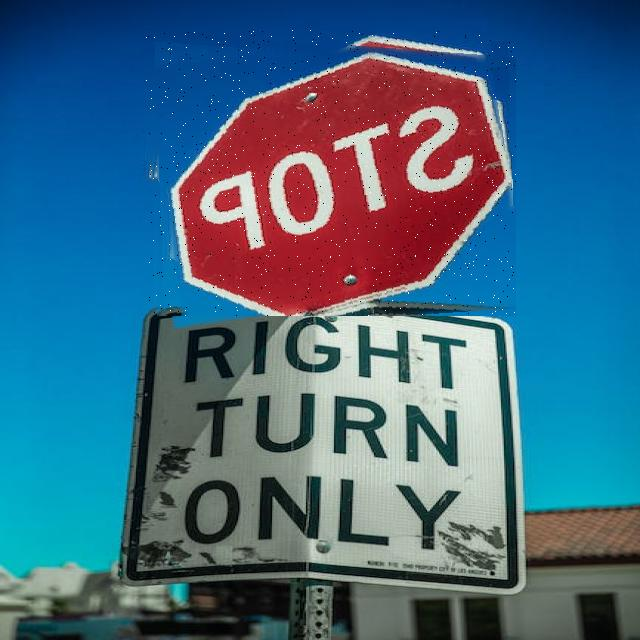stop: (146, 30, 516, 316)
